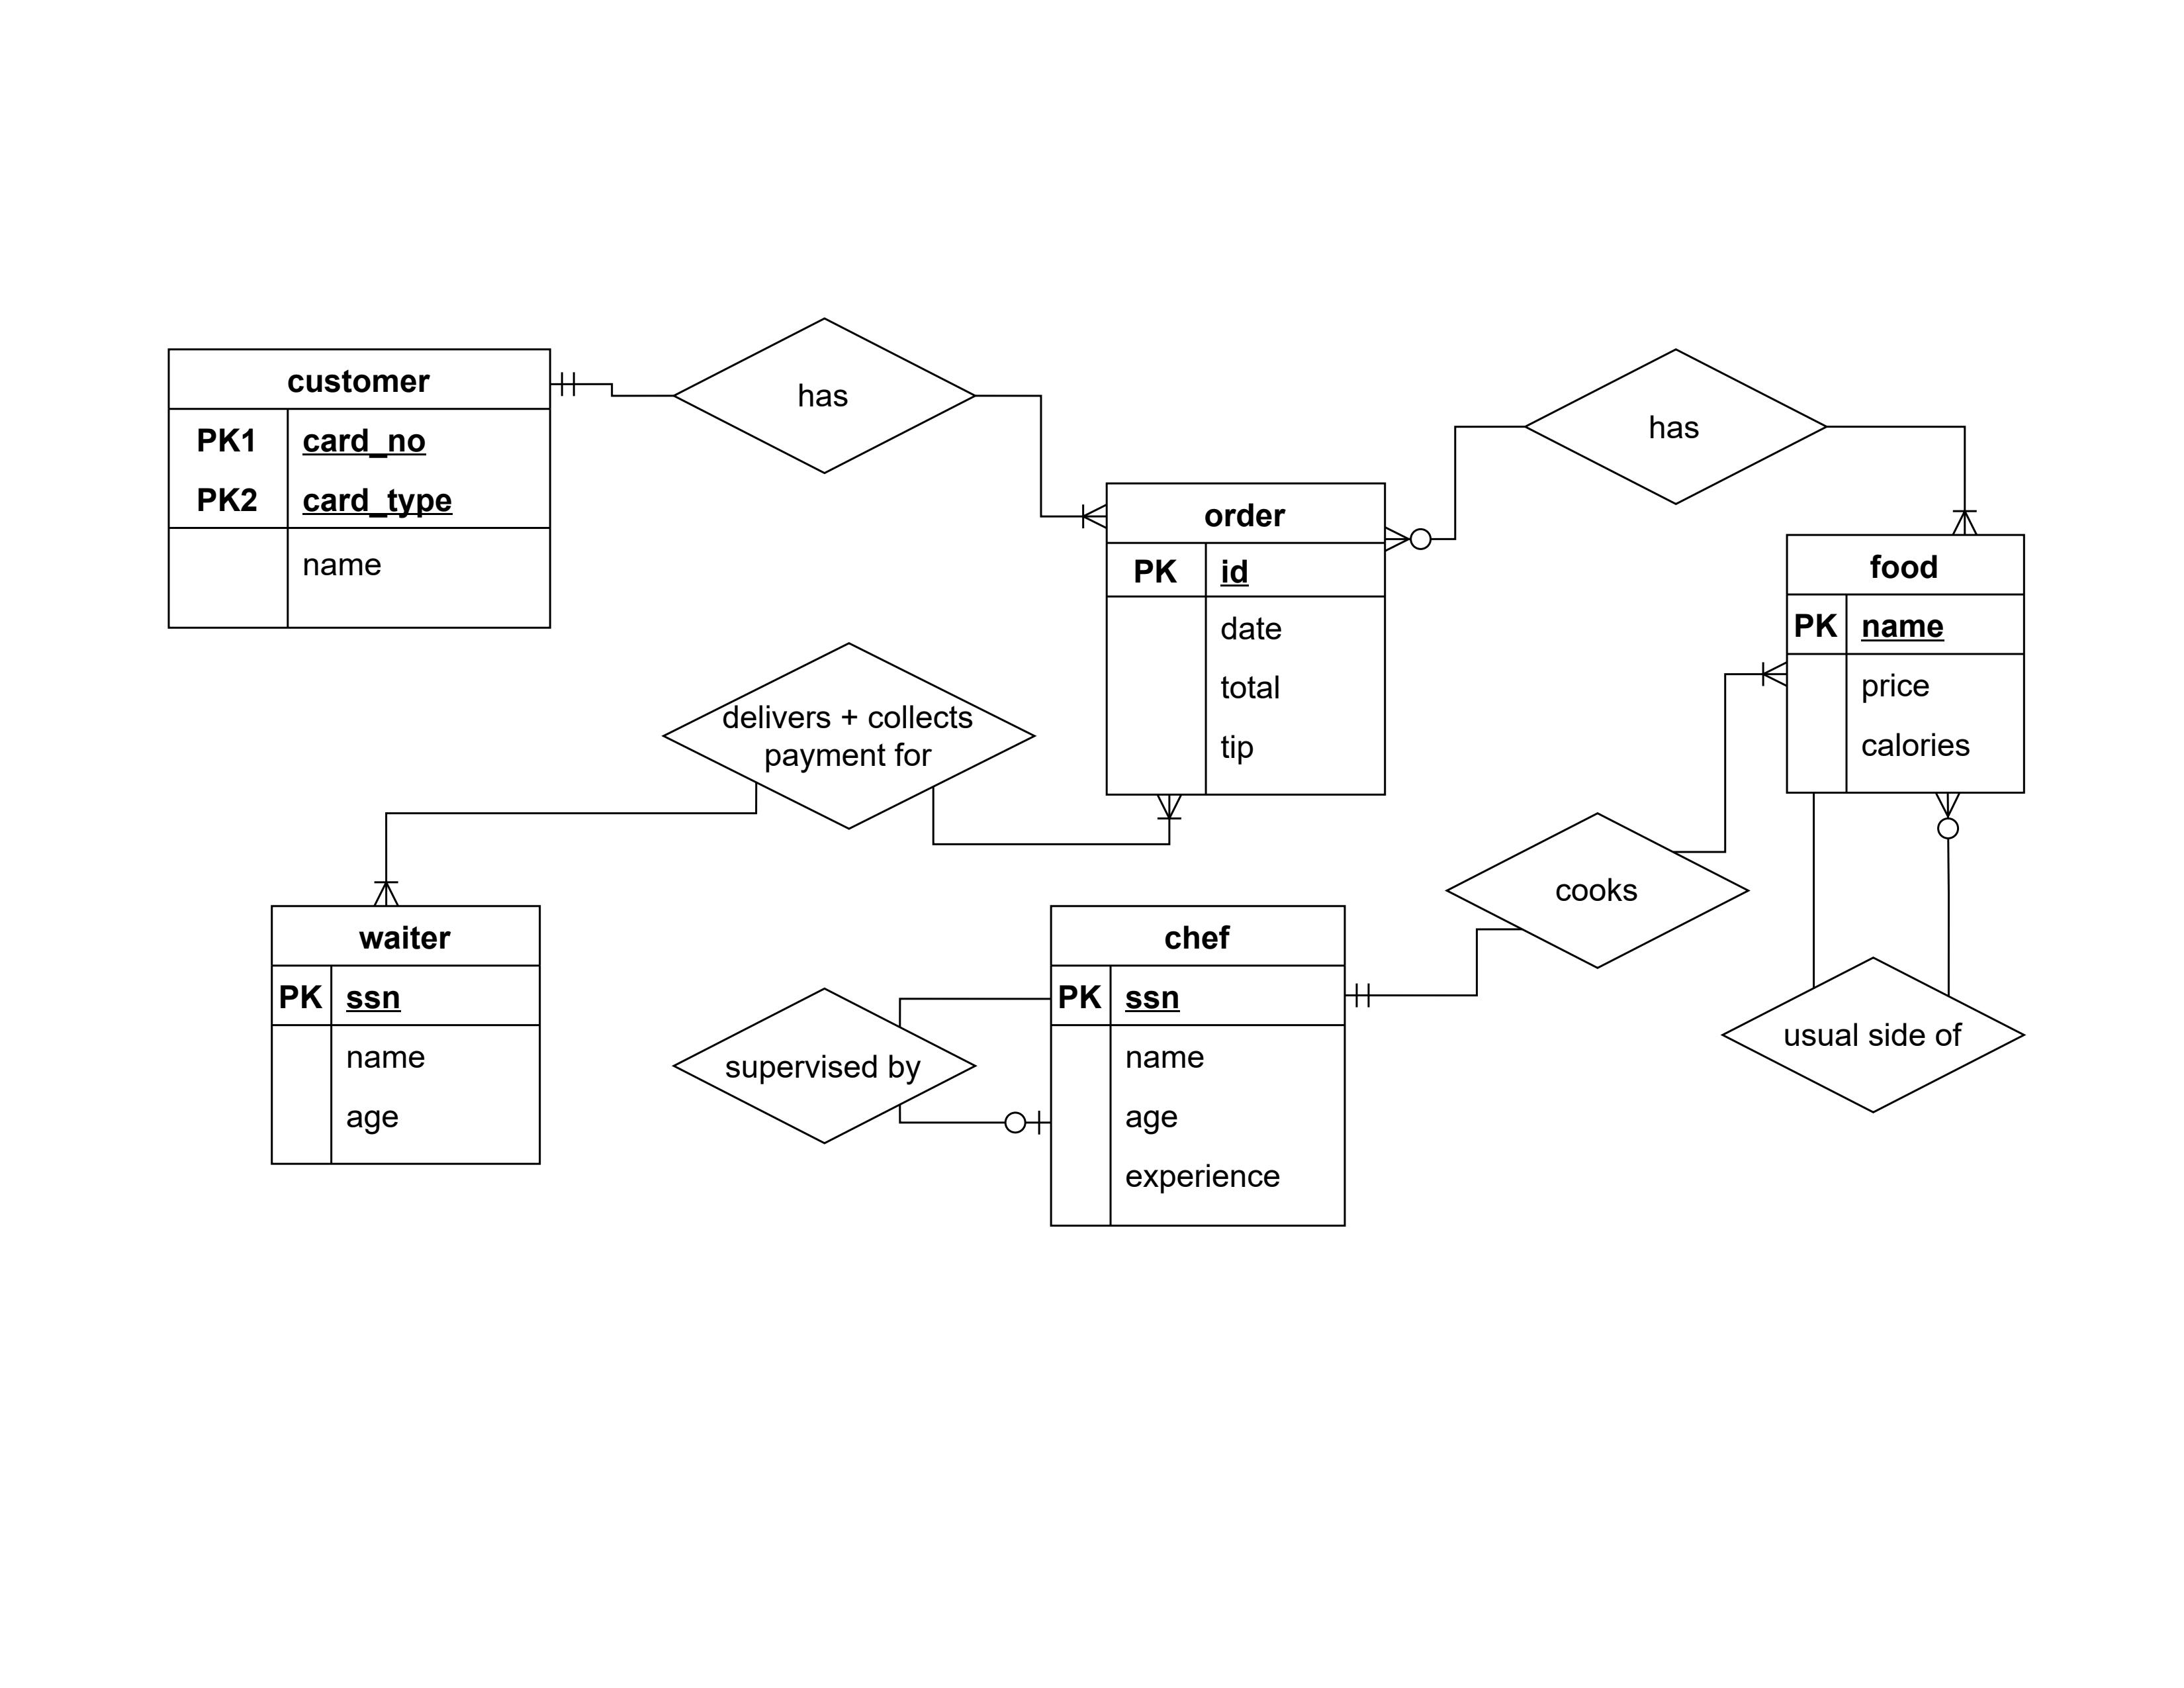Entity: (165, 344, 555, 635), (1046, 899, 1351, 1232), (1103, 479, 1390, 800), (268, 899, 548, 1174), (1782, 530, 2030, 800)
Relationship: (659, 640, 1035, 830), (1441, 809, 1753, 968), (670, 988, 979, 1145), (1720, 954, 2024, 1112), (672, 317, 975, 473), (1525, 348, 1826, 502)
